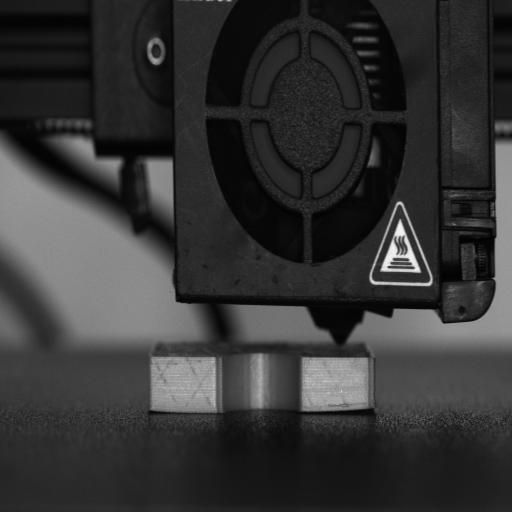warp: (323, 386, 383, 422)
